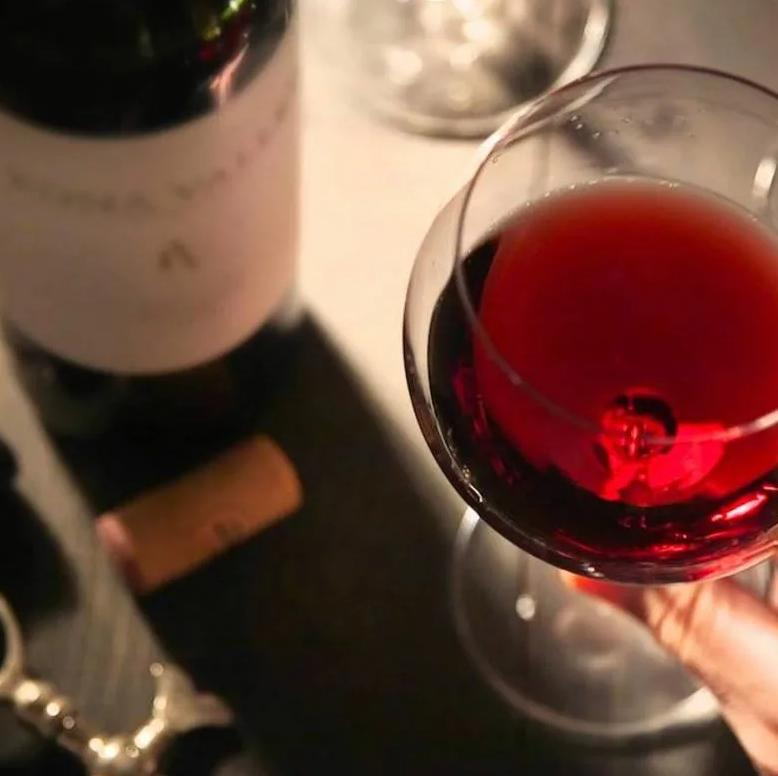wine bottle: (2, 0, 306, 442)
wine label: (0, 18, 304, 373)
